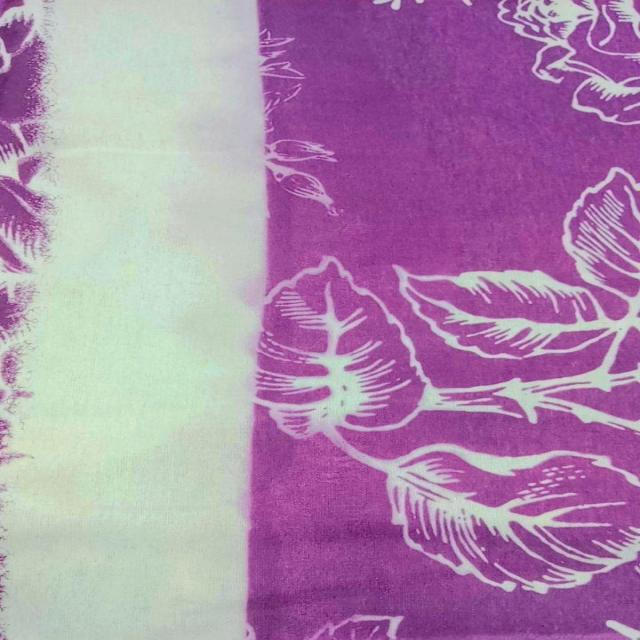selvet: (0, 4, 274, 640)
